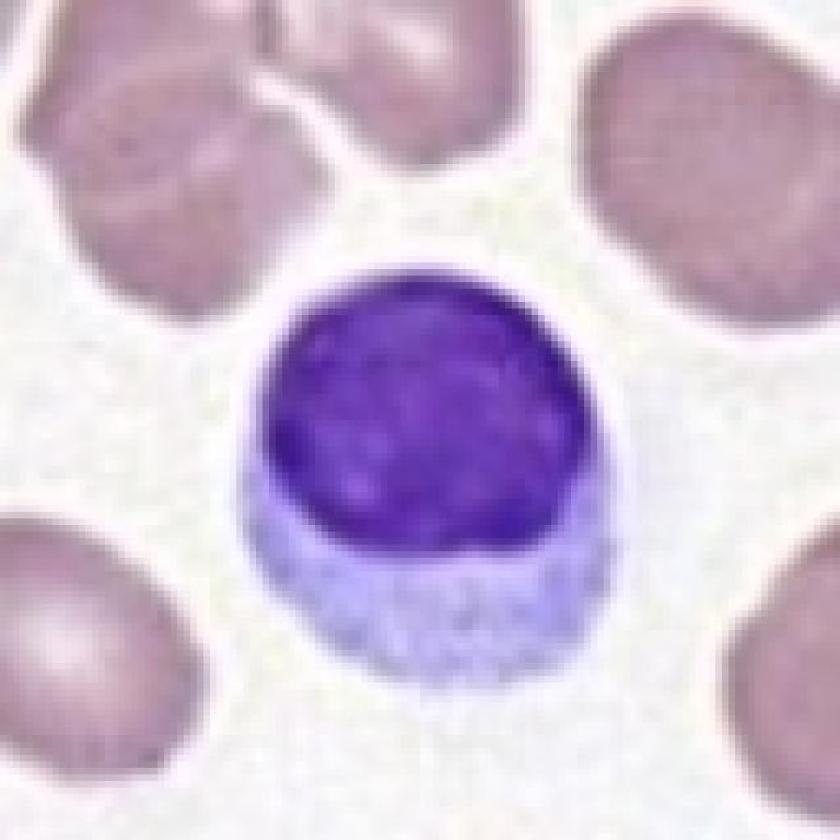lymphocyte: (231, 262, 632, 701)
